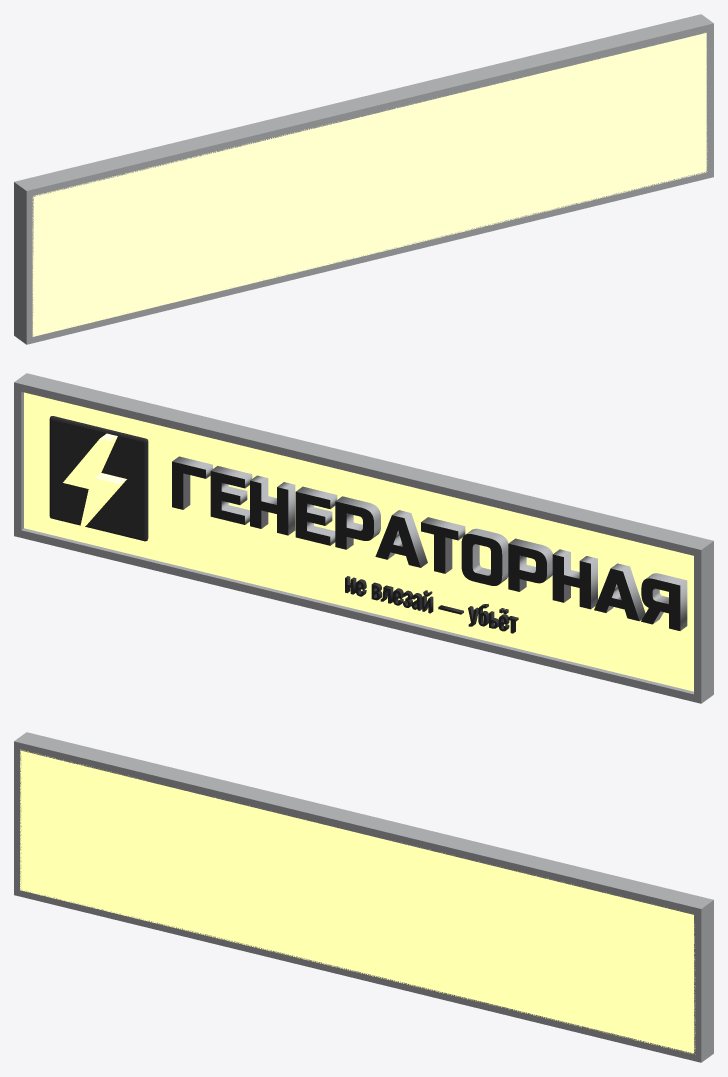
Rendered from generator.glb.
3 views of the same model, one above another, from view 1: azimuth 30°, elevation 25°; view 2: azimuth 150°, elevation 25°; view 3: azimuth 330°, elevation 25° (orthographic).
Parts seen in each view (by area): view 1: Sign; view 2: Sign; view 3: Sign.
Boxes of the visible parts, box(x1,y1,x2,y2) form: Sign: box(14, 14, 713, 344); Sign: box(14, 373, 713, 703); Sign: box(14, 732, 713, 1062).
Bounding box in the file's own units: 5.66 × 1.21 × 0.28.
